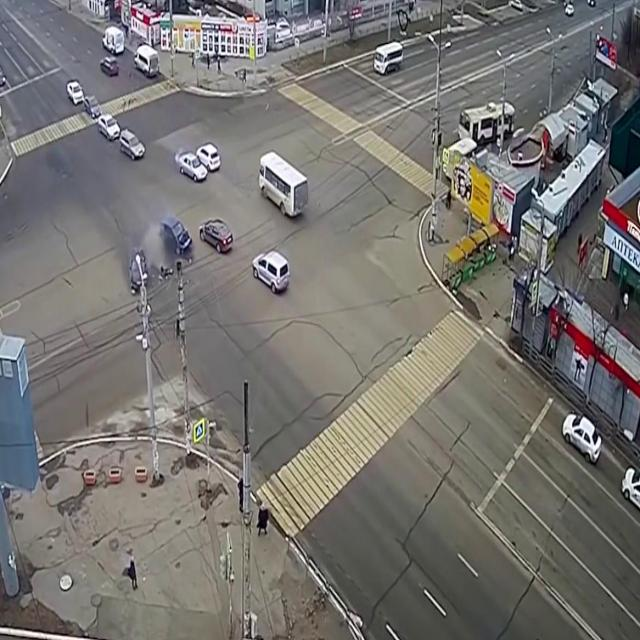accident: (125, 197, 195, 311)
non_accident: (64, 71, 148, 166)
